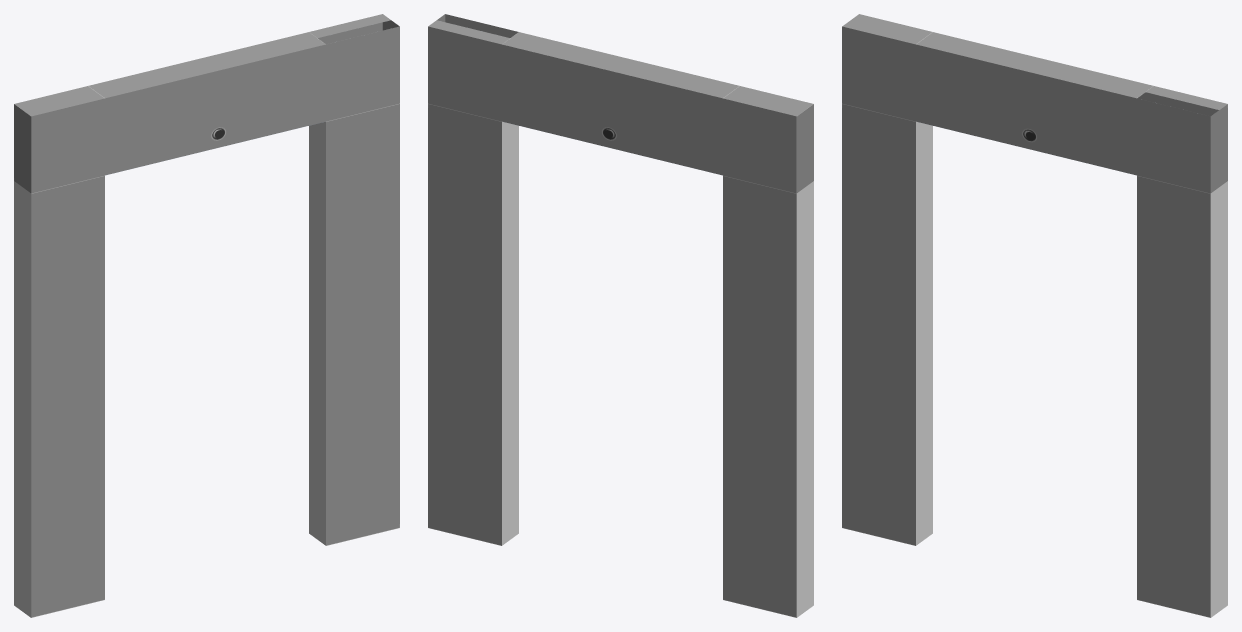
The model's file is InitiationRoom_DoorFrame_02.fbx.
The picture shows the model from 3 angles, left to right: view 1: azimuth 30°, elevation 25°; view 2: azimuth 150°, elevation 25°; view 3: azimuth 330°, elevation 25°; orthographic projection.
Visible parts, largest first — view 1: InitiationRoom_DoorFrame_02; view 2: InitiationRoom_DoorFrame_02; view 3: InitiationRoom_DoorFrame_02.
Boxes of the visible parts, x1,y1,x2,y2 form: InitiationRoom_DoorFrame_02: (14, 14, 399, 617); InitiationRoom_DoorFrame_02: (428, 14, 813, 617); InitiationRoom_DoorFrame_02: (842, 14, 1227, 617).
Size of the model in its own units: 1.88 by 2.44 by 0.15.
